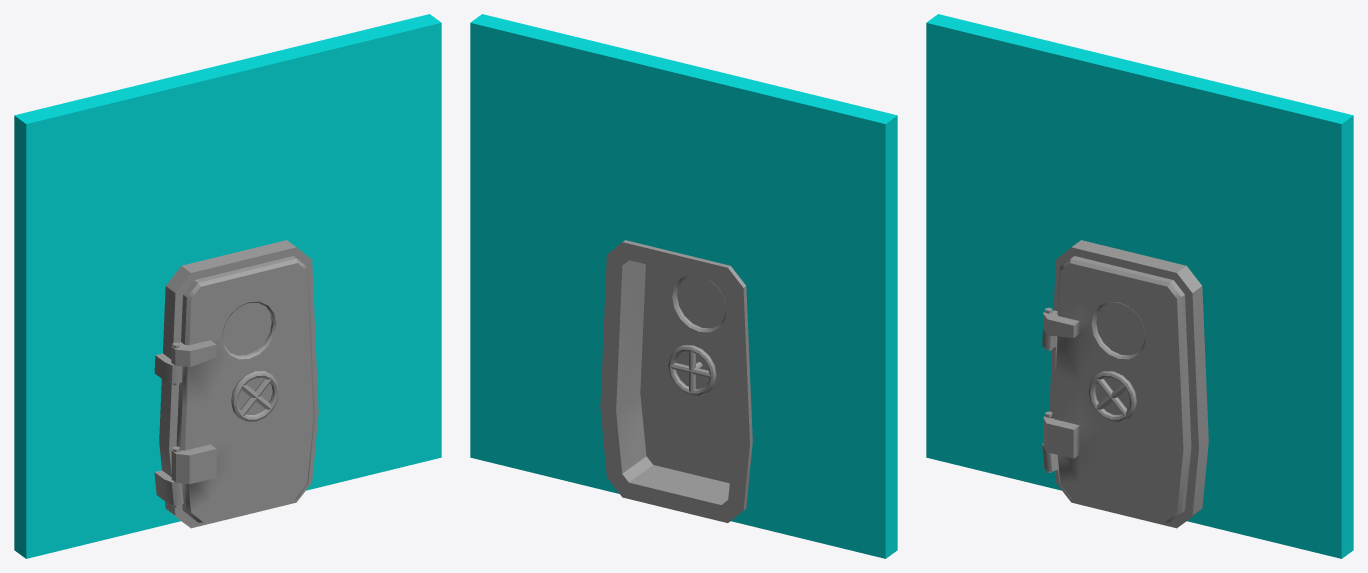
File: hingedoor_module.fbx
The picture shows the model from 3 angles, left to right: view 1: azimuth 30°, elevation 25°; view 2: azimuth 150°, elevation 25°; view 3: azimuth 330°, elevation 25°; orthographic projection.
Parts seen in each view (by area): view 1: hingeDoor_wall, hingedoor_door, hingedoor_door_frame, hingedoor_door_window, hingedoor_door_handle; view 2: hingeDoor_wall, hingedoor_door_frame, hingedoor_door, hingedoor_door_window, hingedoor_door_handle; view 3: hingeDoor_wall, hingedoor_door, hingedoor_door_frame, hingedoor_door_window, hingedoor_door_handle.
Boxes of the visible parts, box(x1,y1,x2,y2) form: hingeDoor_wall: box(14, 14, 441, 558); hingedoor_door: box(171, 256, 314, 522); hingedoor_door_frame: box(154, 240, 318, 528); hingedoor_door_window: box(223, 303, 271, 355); hingedoor_door_handle: box(231, 371, 279, 421); hingeDoor_wall: box(470, 14, 897, 558); hingedoor_door_frame: box(600, 240, 752, 522); hingedoor_door: box(640, 264, 734, 483); hingedoor_door_window: box(677, 276, 725, 328); hingedoor_door_handle: box(668, 345, 716, 395); hingeDoor_wall: box(926, 14, 1353, 558); hingedoor_door: box(1043, 256, 1191, 522); hingedoor_door_frame: box(1042, 240, 1208, 528); hingedoor_door_window: box(1096, 303, 1145, 355); hingedoor_door_handle: box(1088, 371, 1136, 421).
Size of the model in its own units: 400 by 400 by 63.1.
